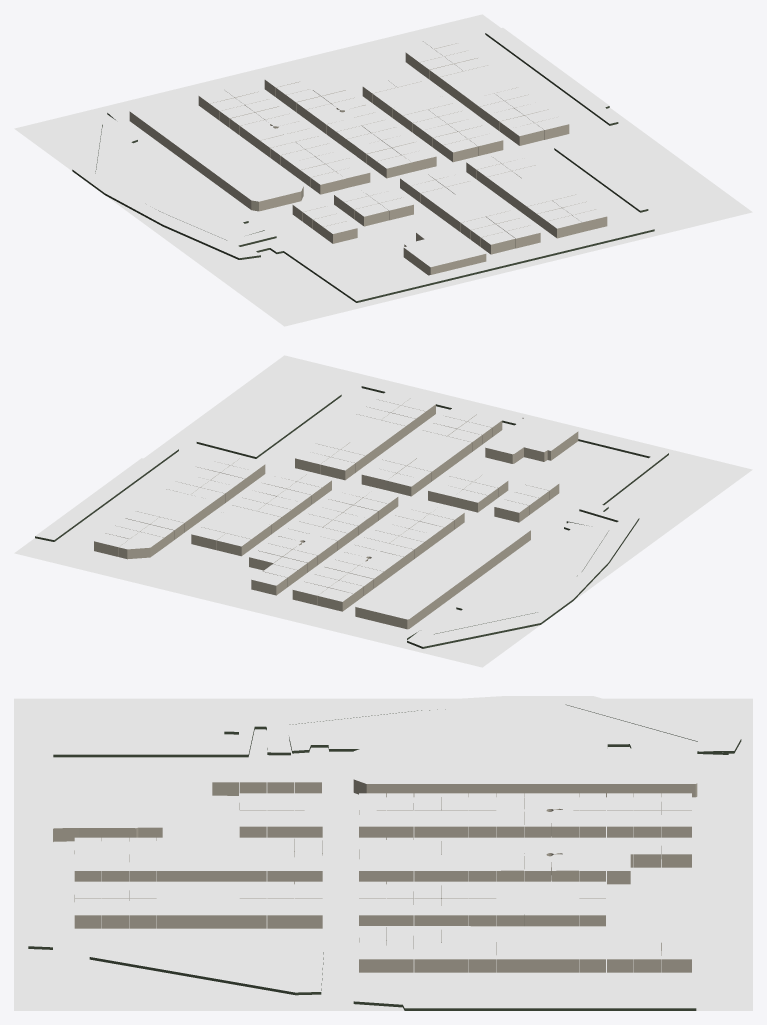
The model's file is gayatri_model.glb.
3 renders of one model, top to bottom at view 1: azimuth 30°, elevation 25°; view 2: azimuth 150°, elevation 25°; view 3: azimuth 270°, elevation 25°, orthographic. The views are drawn at different scales.
Parts seen in each view (by area): view 1: plan_tops, plan_board, plan_sides; view 2: plan_tops, plan_board, plan_sides; view 3: plan_tops, plan_board, plan_sides.
Part boxes in pixels (box(x1,y1,x2,y2)): plan_tops: box(72, 27, 654, 301); plan_board: box(14, 14, 752, 326); plan_sides: box(72, 33, 654, 302); plan_tops: box(35, 380, 668, 646); plan_board: box(14, 355, 752, 667); plan_sides: box(35, 386, 668, 648); plan_tops: box(28, 696, 740, 1008); plan_board: box(14, 698, 752, 1010); plan_sides: box(28, 704, 741, 1010).
Bounding box in the file's own units: 1 × 0.02 × 1.
